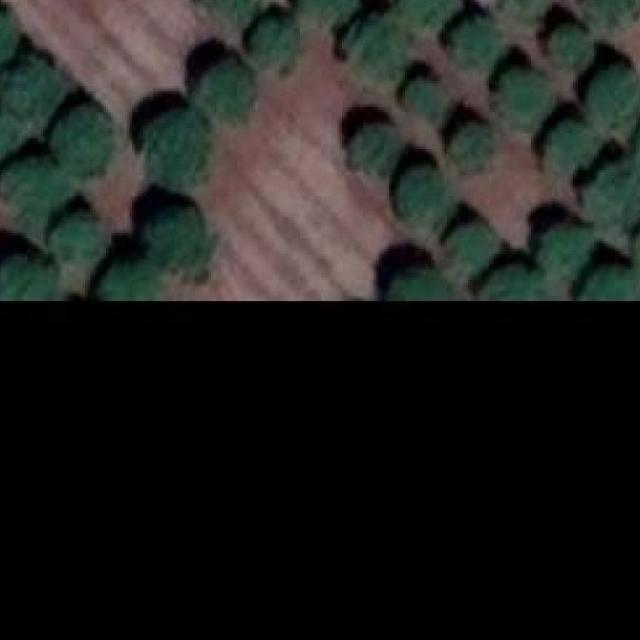Tree: (146, 107, 212, 194), (4, 58, 78, 134), (143, 207, 211, 275), (52, 107, 115, 175), (345, 13, 408, 80), (586, 160, 640, 228), (0, 159, 69, 212), (492, 65, 548, 128), (442, 15, 499, 76), (195, 55, 251, 112), (392, 160, 445, 220), (92, 259, 164, 299), (0, 254, 62, 299), (387, 259, 455, 299), (253, 11, 300, 68), (594, 65, 640, 121), (345, 123, 398, 170), (536, 219, 583, 270), (476, 264, 544, 299), (447, 123, 494, 173), (54, 212, 100, 262), (543, 23, 594, 68), (550, 120, 595, 170), (445, 225, 492, 272), (407, 72, 447, 123), (581, 264, 634, 299), (583, 0, 640, 26), (293, 0, 350, 26), (0, 13, 19, 80), (0, 102, 19, 164), (408, 0, 455, 23), (197, 0, 248, 13), (500, 0, 540, 16), (636, 215, 640, 302)
